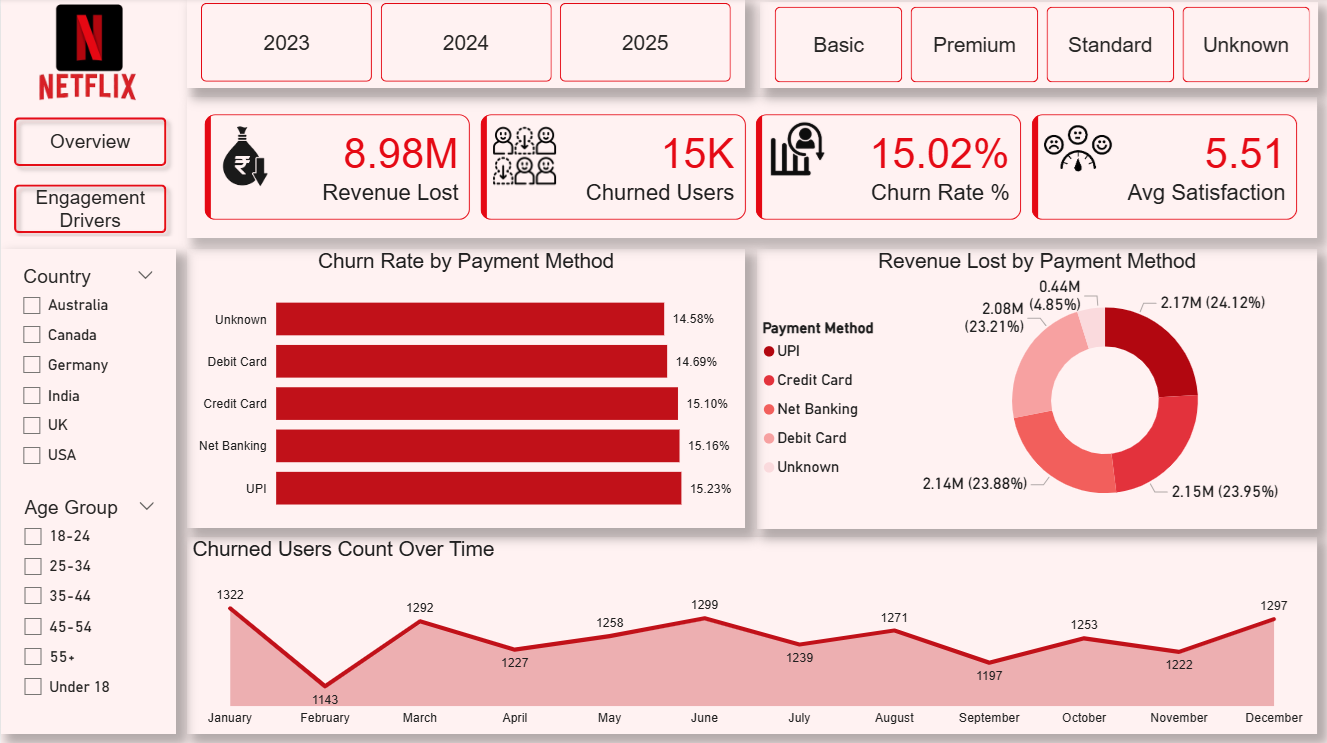

The dashboard page shown, as its layout file describes it:
{"tool":"powerbi","page":{"name":"Churn Analysis","canvas":[1280,720],"ordinal":1},"visuals":[{"type":"cardVisual","fields":{"Data":["Netflix_Cleaned_Analytics_File.Revenue Lost Due to Churn","Netflix_Cleaned_Analytics_File.Churned Users","Netflix_Cleaned_Analytics_File.Churn Rate %","Netflix_Cleaned_Analytics_File.Avg Satisfaction"]},"box":[179.8,95.3,1090.6,136.3],"z":0},{"type":"clusteredBarChart","title":"Churn Rate by Payment Method","fields":{"Category":["Netflix_Cleaned_Analytics_File.Payment_Method"],"Y":["Netflix_Cleaned_Analytics_File.Churn Rate %"]},"box":[179.8,242.5,538.1,269],"z":1000},{"type":"donutChart","title":"Revenue Lost by Payment Method","fields":{"Category":["Netflix_Cleaned_Analytics_File.Payment_Method"],"Y":["Netflix_Cleaned_Analytics_File.Revenue Lost Due to Churn"]},"box":[729.9,242.9,540.2,269.5],"z":2000},{"type":"shape","box":[0,242.5,168.9,468.1],"z":3000},{"type":"shape","box":[732.3,3.6,538.1,83.2],"z":4000},{"type":"slicer","fields":{"Values":["Netflix_Cleaned_Analytics_File.Country"]},"box":[8.4,253.4,150.8,213.5],"z":5000},{"type":"advancedSlicerVisual","fields":{"Values":["Netflix_Cleaned_Analytics_File.Subscription_Type"]},"box":[742,3.6,528.4,83.2],"z":6000},{"type":"slicer","fields":{"Values":["Netflix_Cleaned_Analytics_File.Age_Group"]},"box":[9.7,476.5,150.8,218.4],"z":7000},{"type":"shape","box":[179.8,0,538.1,86.9],"z":8000},{"type":"advancedSlicerVisual","fields":{"Values":["Netflix_Cleaned_Analytics_File.Date.Variation.Date Hierarchy.Year"]},"box":[188.2,0,521.2,86.9],"z":9000},{"type":"image","box":[188.1,97.9,95.3,109.3],"z":10000},{"type":"image","box":[999.1,105.5,80.1,77.5],"z":11000},{"type":"image","box":[474.1,122,62.3,61],"z":12000},{"type":"pageNavigator","box":[3.9,106.1,165.1,125.8],"z":13000},{"type":"image","box":[19.7,3.9,132.3,69.4],"z":14000},{"type":"image","box":[3.9,52.4,159.8,68.1],"z":15000},{"type":"image","box":[729.6,109.3,78.8,73.7],"z":16000},{"type":"areaChart","title":"Churned Users Count Over Time","fields":{"Category":["Netflix_Cleaned_Analytics_File.Date.Variation.Date Hierarchy.Month"],"Y":["Netflix_Cleaned_Analytics_File.Churned Users"]},"box":[179.8,520,1090.6,190.6],"z":17000}]}

Visuals, with their boxes in screenshot pixels (x1, y1, x2, y2), scaled from the page's 1280x720 canvas onto the 1327x743 screenshot:
cardVisual - Netflix_Cleaned_Analytics_File.Revenue Lost Due to Churn x Netflix_Cleaned_Analytics_File.Churned Users: 186 98 1317 239
"Churn Rate by Payment Method" clusteredBarChart: 186 250 744 528
"Revenue Lost by Payment Method" donutChart: 757 251 1317 529
shape: 0 250 175 733
shape: 759 4 1317 90
slicer - Netflix_Cleaned_Analytics_File.Country: 9 261 165 482
advancedSlicerVisual - Netflix_Cleaned_Analytics_File.Subscription_Type: 769 4 1317 90
slicer - Netflix_Cleaned_Analytics_File.Age_Group: 10 492 166 717
shape: 186 0 744 90
advancedSlicerVisual - Netflix_Cleaned_Analytics_File.Date.Variation.Date Hierarchy.Year: 195 0 735 90
image: 195 101 294 214
image: 1036 109 1119 189
image: 492 126 556 189
pageNavigator: 4 109 175 239
image: 20 4 158 76
image: 4 54 170 124
image: 756 113 838 189
"Churned Users Count Over Time" areaChart: 186 537 1317 733
